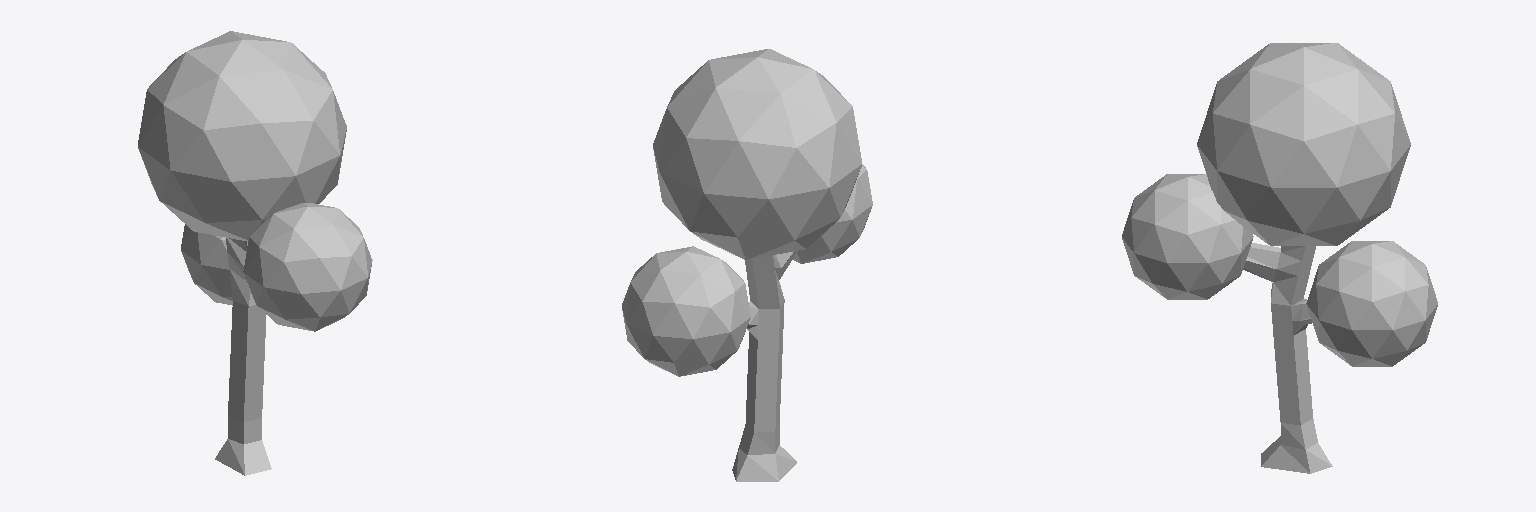
The model's file is tree1_smooth.obj.
3 views of the same model, side by side, from view 1: azimuth 30°, elevation 25°; view 2: azimuth 150°, elevation 25°; view 3: azimuth 270°, elevation 25° (orthographic).
Parts seen in each view (by area): view 1: Icosphere.002, Icosphere.001, cylinder, Icosphere; view 2: Icosphere.002, Icosphere, cylinder, Icosphere.001; view 3: Icosphere.002, Icosphere, Icosphere.001, cylinder.
Part boxes in pixels (x1,y1,x2,y2): Icosphere.002: (138,31,346,241); Icosphere.001: (243,203,372,331); cylinder: (215,238,271,475); Icosphere: (181,224,232,305); Icosphere.002: (653,49,861,259); Icosphere: (622,246,750,376); cylinder: (732,251,796,481); Icosphere.001: (793,164,872,263); Icosphere.002: (1197,43,1410,245); Icosphere: (1306,241,1437,366); Icosphere.001: (1122,174,1253,299); cylinder: (1243,243,1332,473).
Bounding box in the file's own units: 1.33 × 2.94 × 2.03.